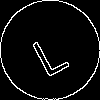L: (25, 25, 71, 78)
